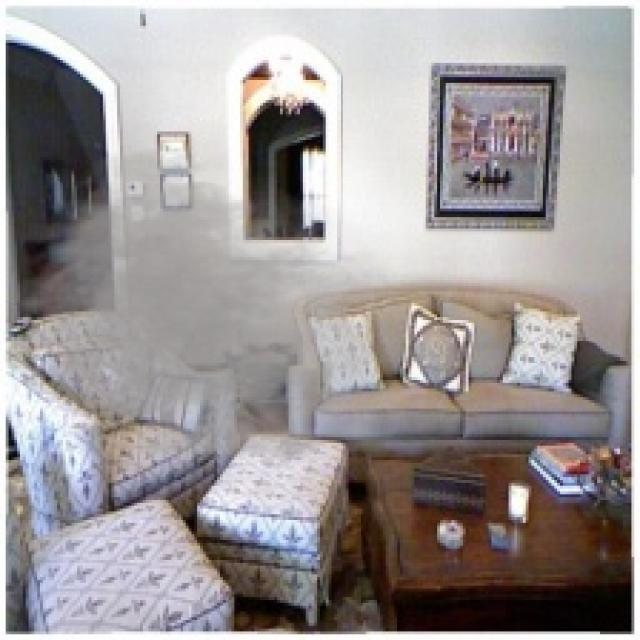Smoke: (2, 137, 414, 483)
